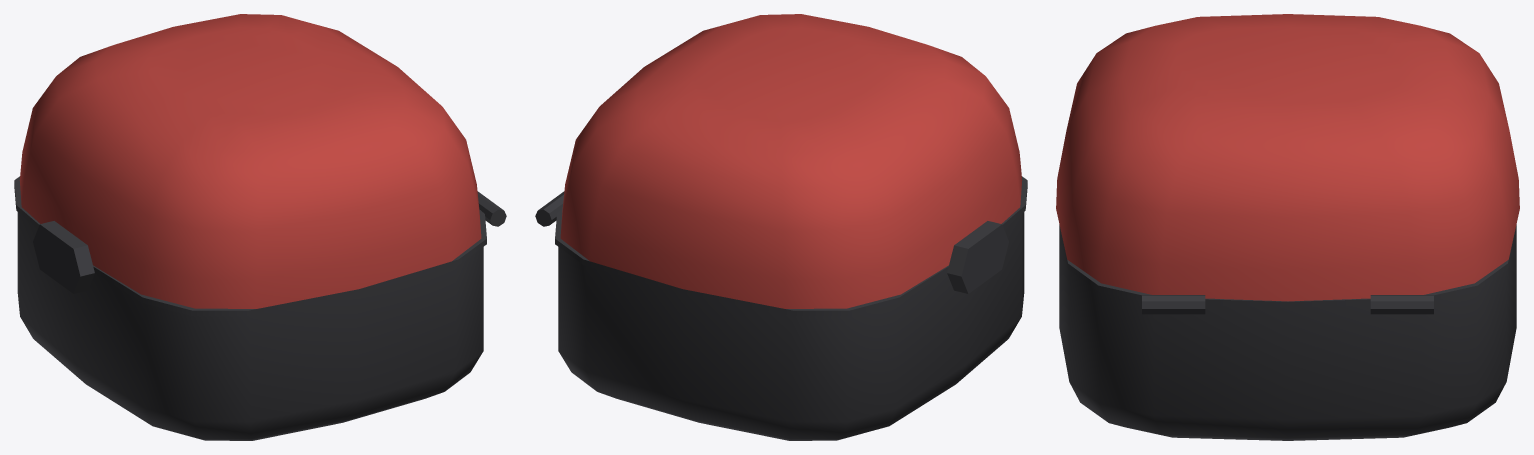
Rendered from top_case_lod1.glb.
The picture shows the model from 3 angles, left to right: view 1: azimuth 30°, elevation 25°; view 2: azimuth 150°, elevation 25°; view 3: azimuth 270°, elevation 25°; orthographic projection. The views are drawn at different scales.
Visible parts, largest first — view 1: top_case_lod1; view 2: top_case_lod1; view 3: top_case_lod1.
Part boxes in pixels (left/top/right/bottom): top_case_lod1: left=14, top=14, right=506, bottom=440; top_case_lod1: left=535, top=14, right=1027, bottom=440; top_case_lod1: left=1056, top=14, right=1519, bottom=440.
Bounding box in the file's own units: 0.3701 × 0.26 × 0.3654.
